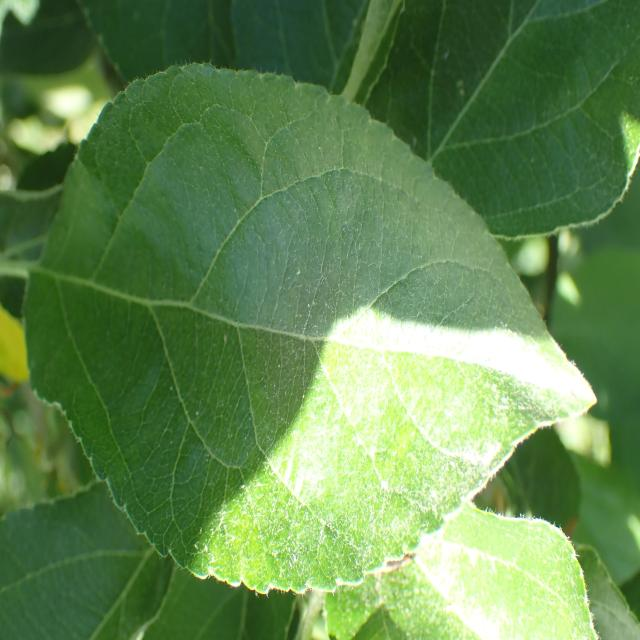healthy: (22, 63, 600, 597), (358, 0, 640, 241), (291, 500, 599, 640), (75, 0, 398, 96), (0, 480, 168, 640)
